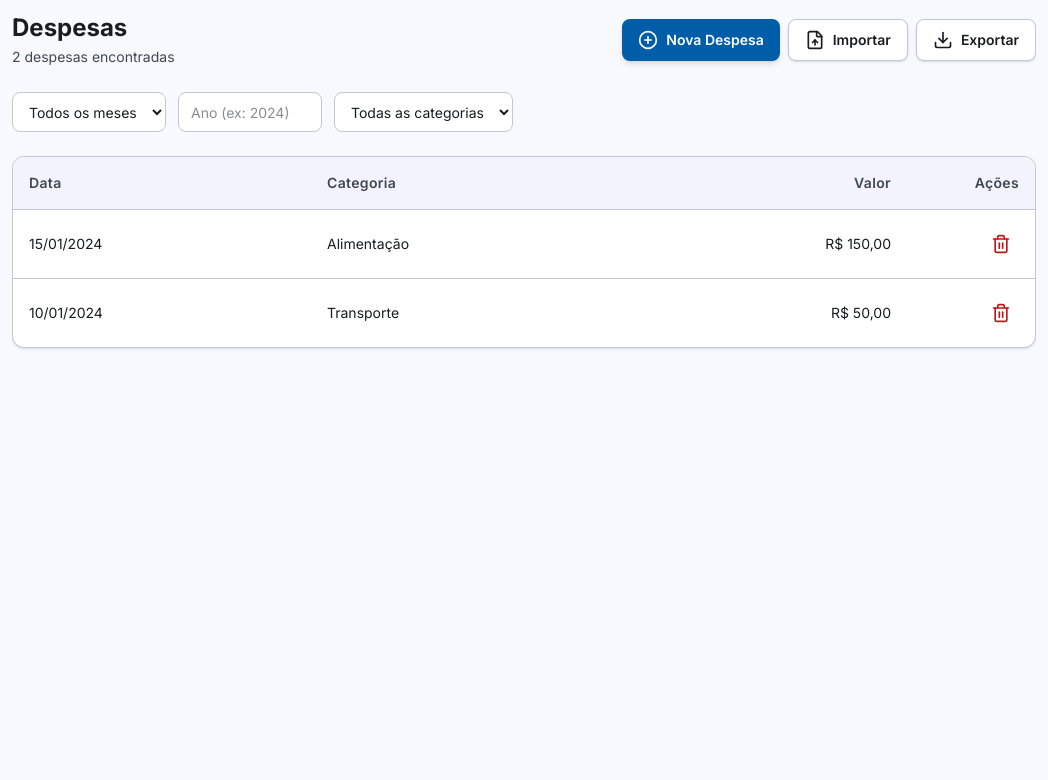
Test: ExpensesPage › rolls back optimistic delete on API error and shows error toast
Click the button named "excluir despesa de alimentação": (1001, 244) [983,226,1019,262]
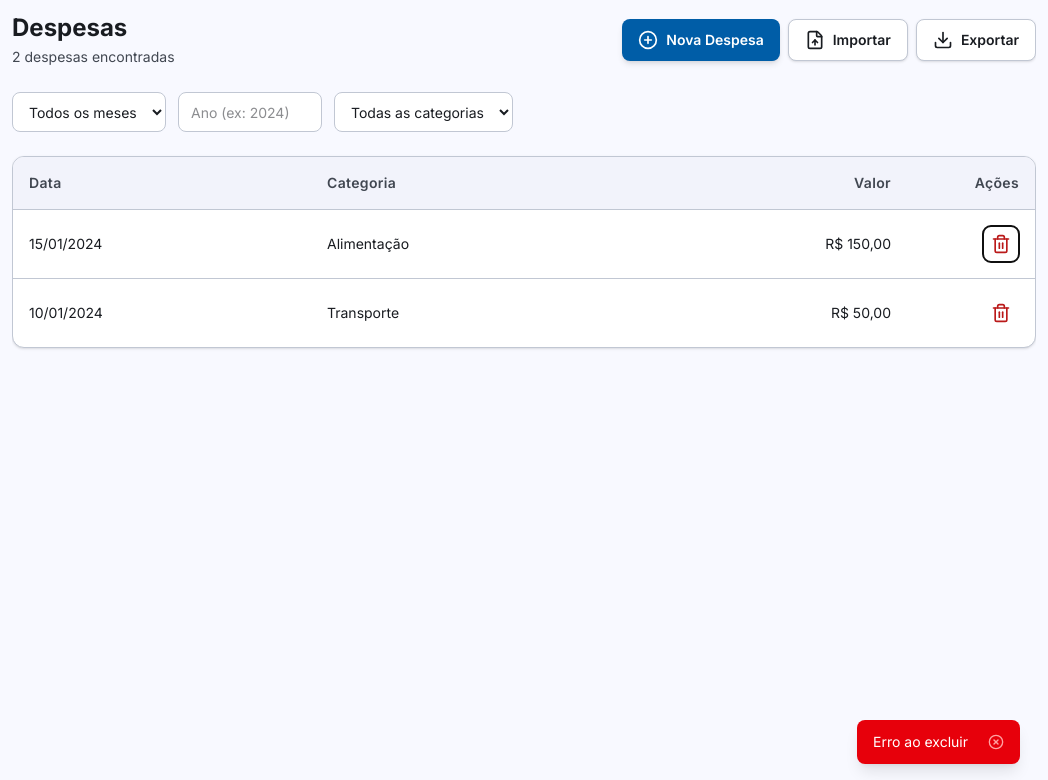
Check: the message reads "Erro ao excluir", box [873,733,968,750]
